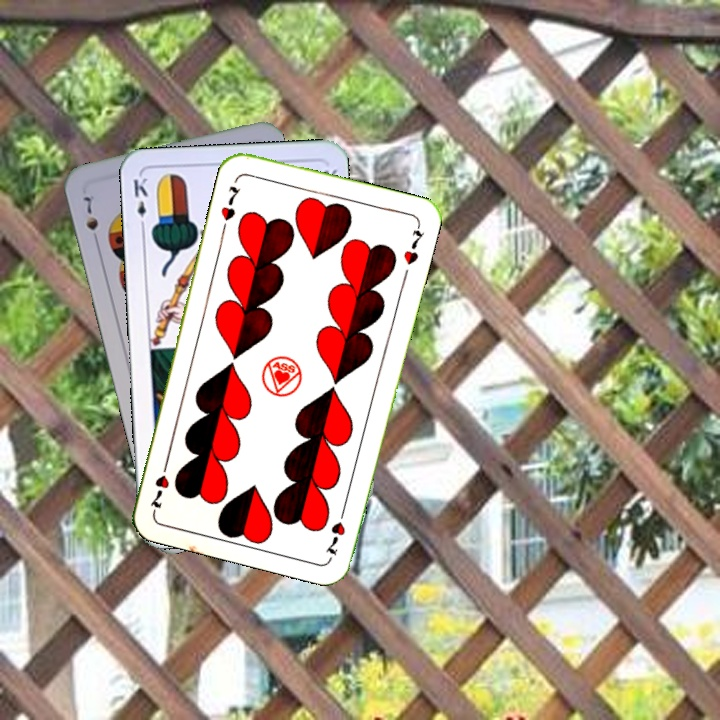EK: (129, 173, 151, 233)
H7: (321, 502, 349, 560), (216, 182, 244, 224)
S7: (79, 192, 102, 247)
